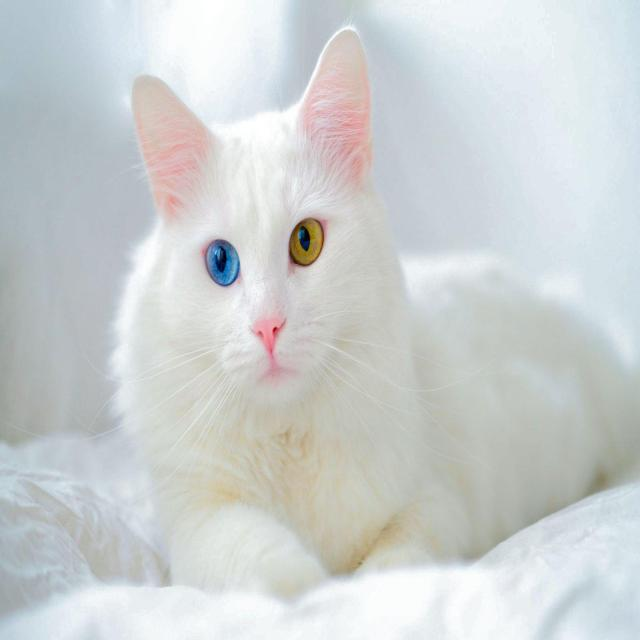Cat: (121, 18, 404, 417)
